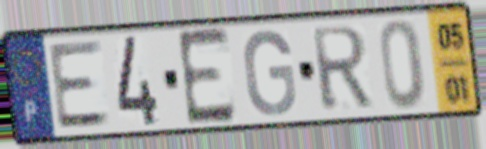0: (377, 16, 429, 114)
4: (115, 33, 161, 130)
E: (173, 24, 239, 130), (46, 37, 114, 133)
G: (240, 27, 299, 119)
R: (308, 23, 376, 115)
